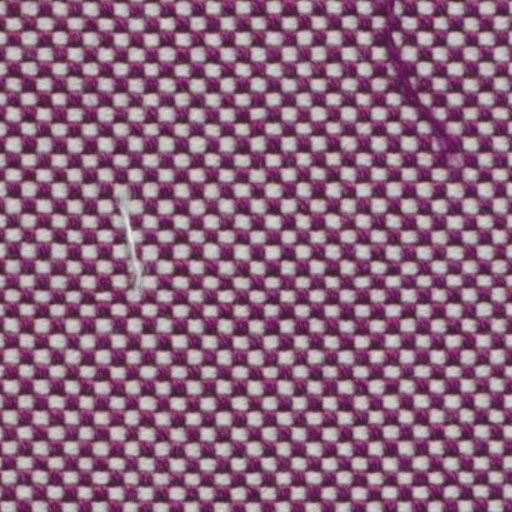DuanSha: (364, 10, 468, 174), (96, 190, 162, 314)
